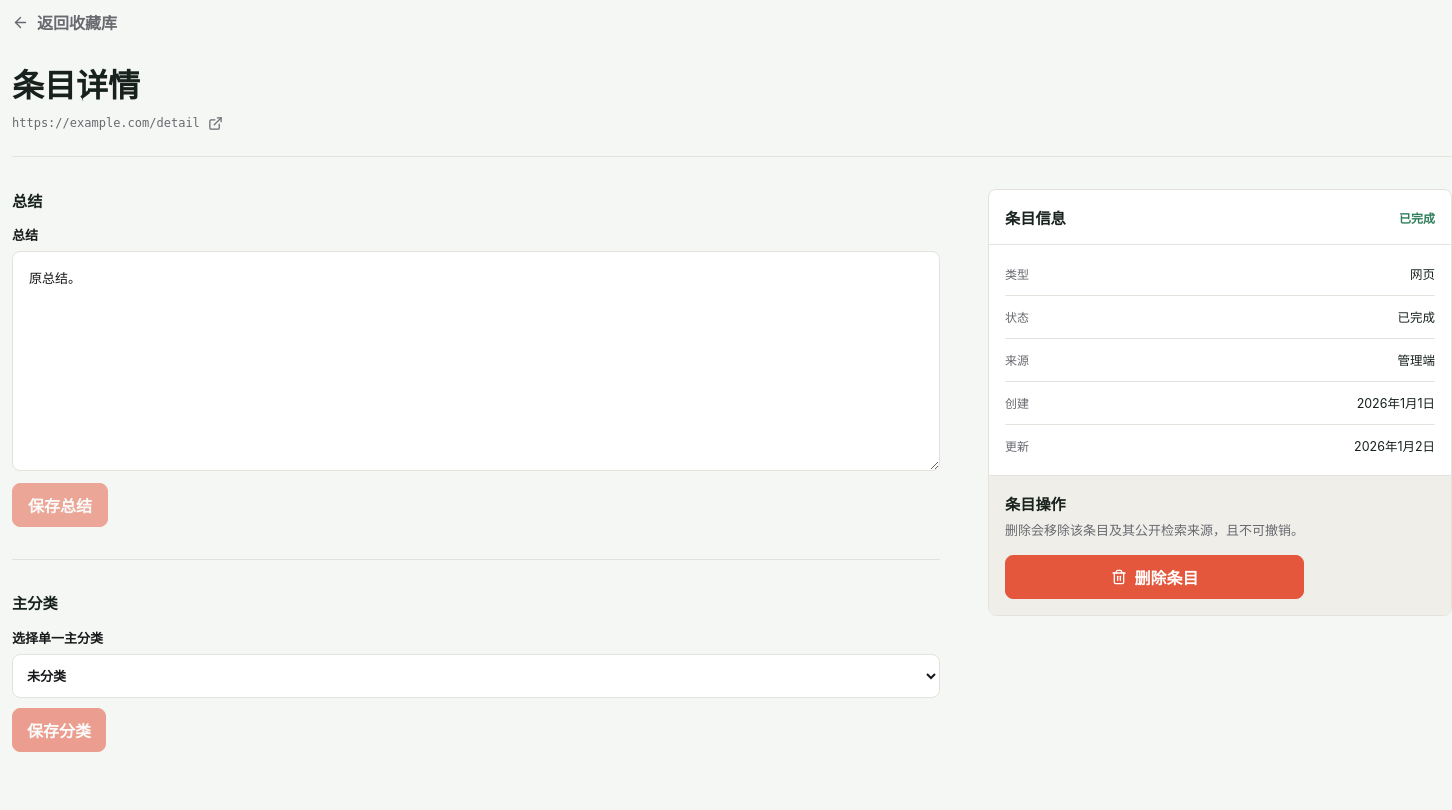
ItemDetail › marks a saved summary as manual
This screenshot has width=1452, height=810.
Replace the text in the text box labelled "总结" with "人工总结。": (476, 361) [12,251,940,471]
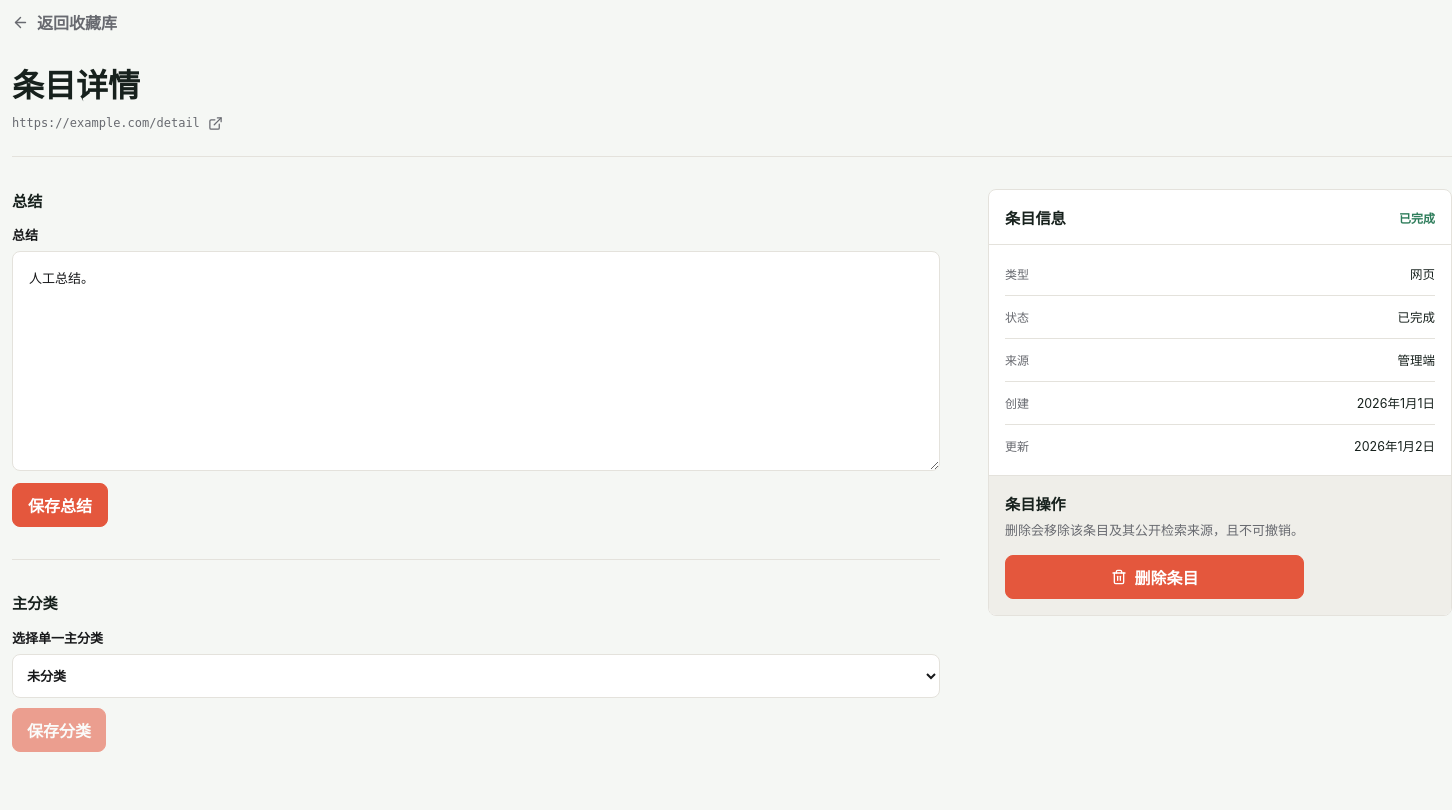
Click the button "保存总结": (60, 505) [12,483,108,527]
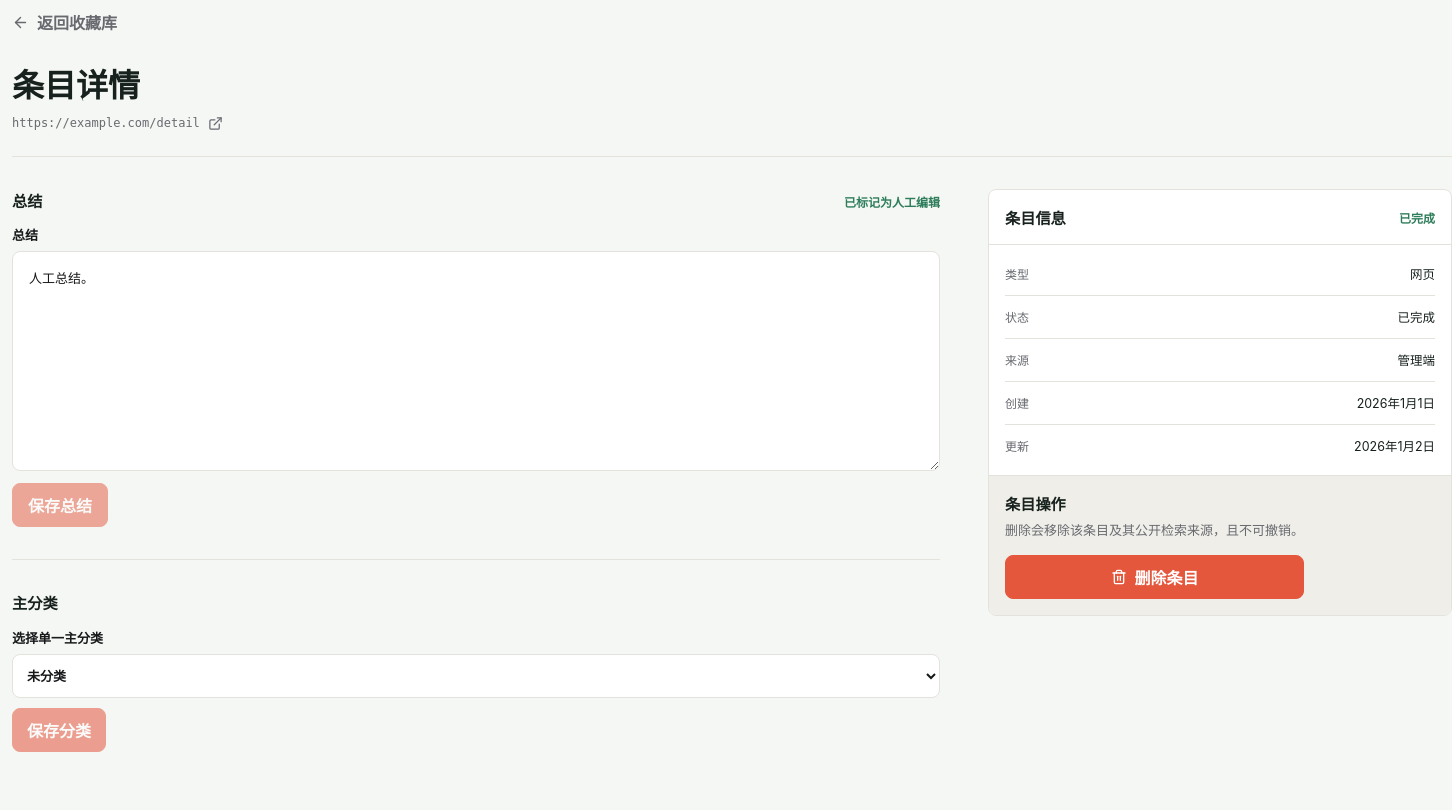
expect the button "删除条目" is shown: met, box [1005,555,1304,599]
expect the text "已标记为人工编辑" is shown: met, box [844,193,940,210]
